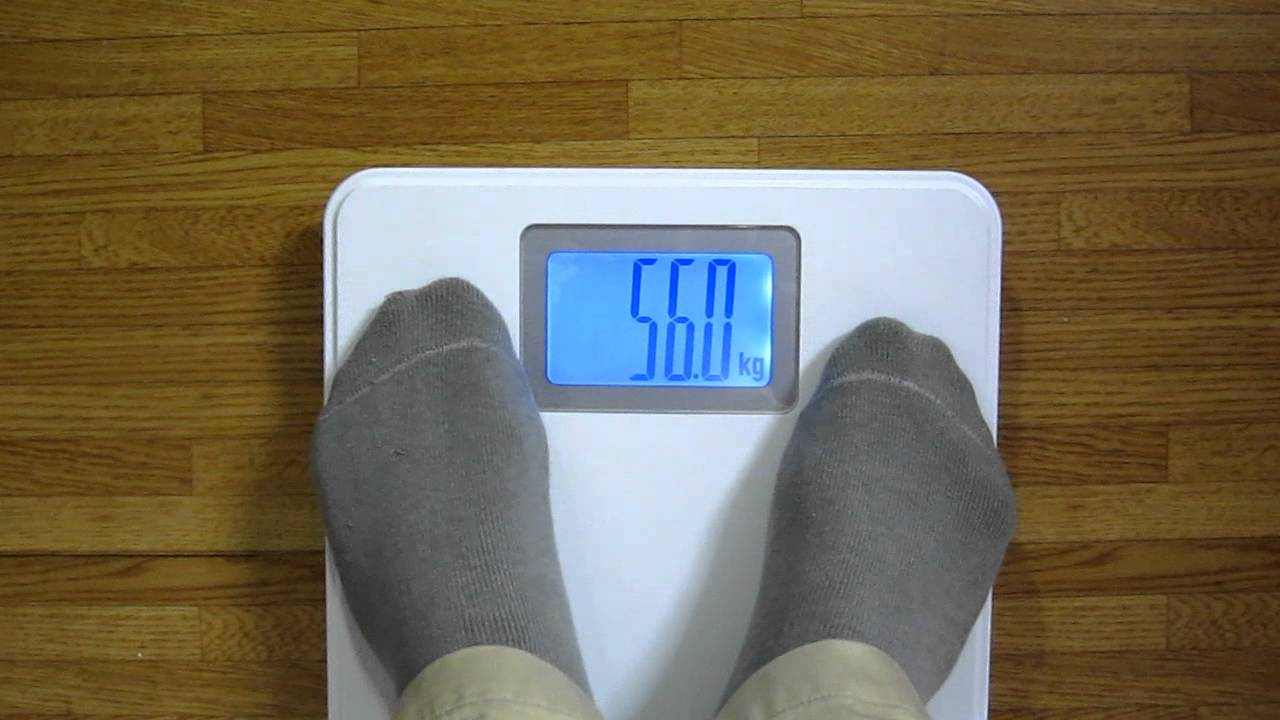LCD: (542, 249, 774, 387)
